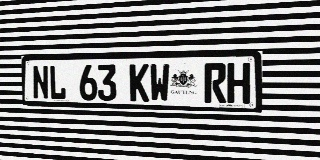3: (98, 64, 116, 101)
6: (79, 65, 97, 101)
H: (227, 63, 250, 104)
K: (129, 64, 149, 102)
L: (49, 65, 66, 100)
N: (32, 65, 49, 100)
R: (204, 63, 226, 103)
W: (150, 64, 170, 102)
